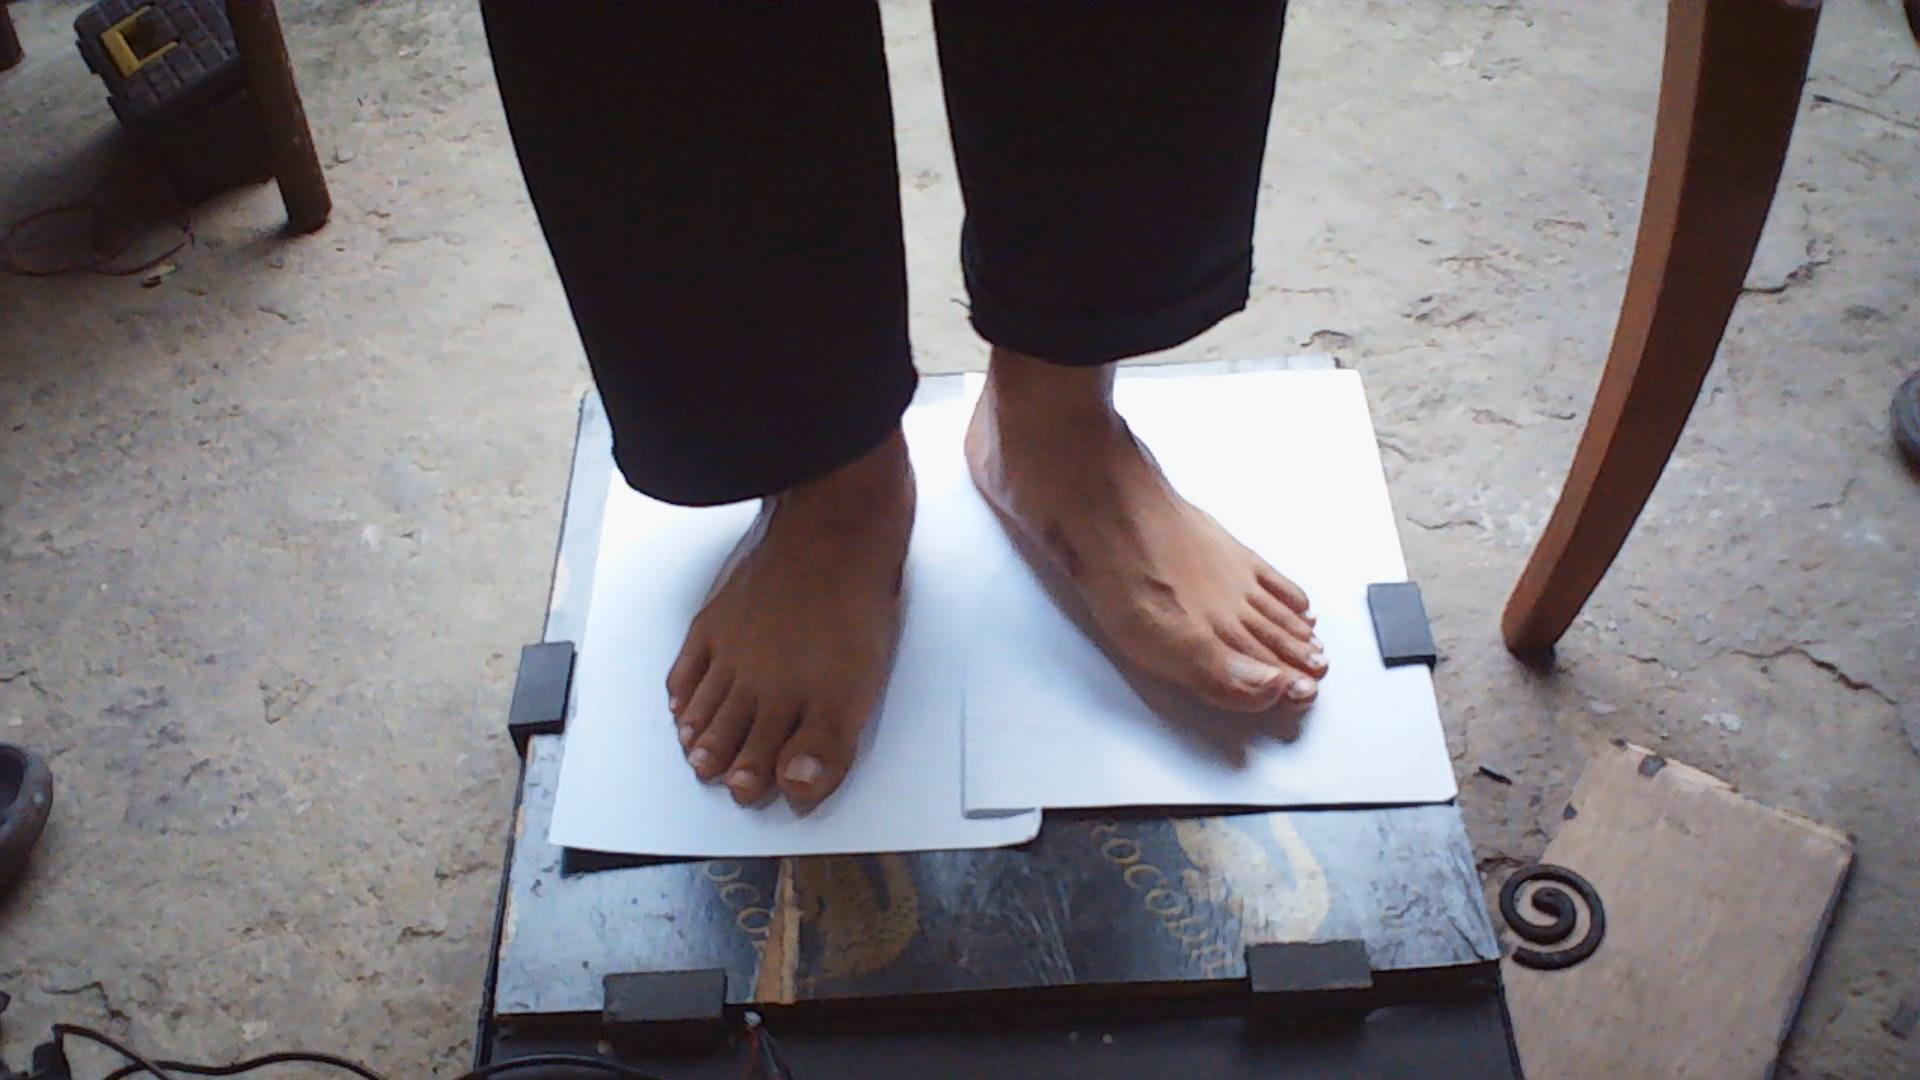Bare_feet: (952, 389, 1341, 756), (644, 488, 943, 820)
